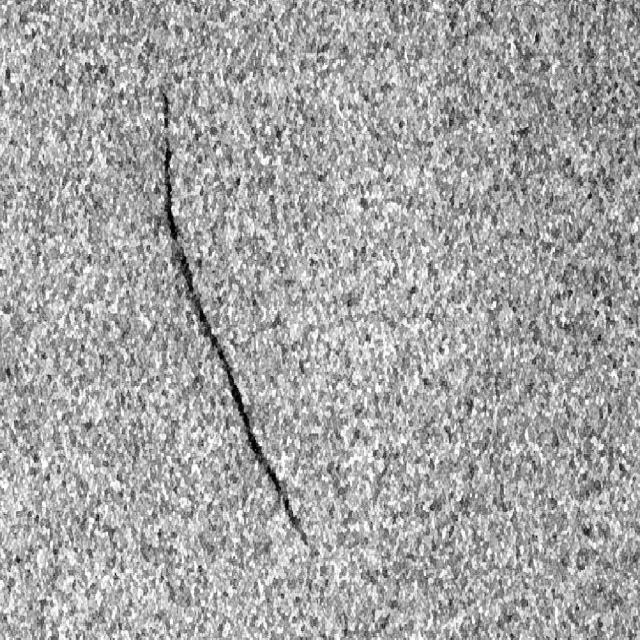oil-spill: (216, 348, 313, 564), (150, 81, 215, 343)
